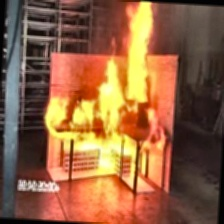fire: (41, 0, 174, 170)
